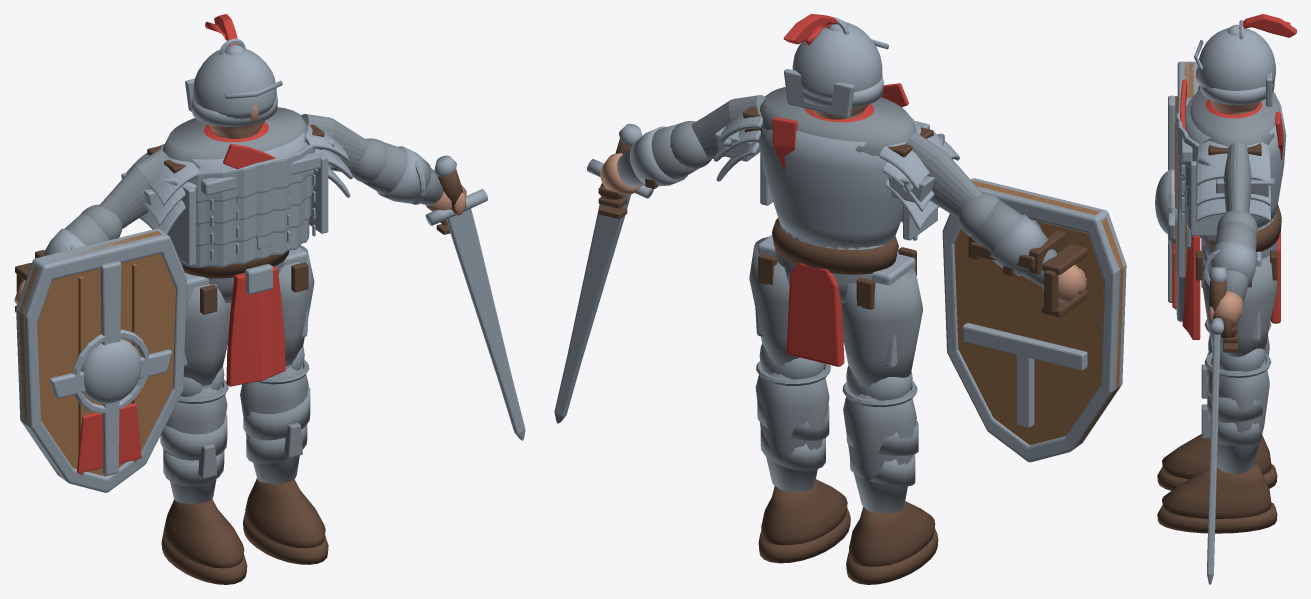
Rendered from SK_Infantry_A_v004_P03R1_Review.fbx.
The picture shows the model from 3 angles, left to right: view 1: azimuth 30°, elevation 25°; view 2: azimuth 150°, elevation 25°; view 3: azimuth 270°, elevation 25°; orthographic projection. The views are drawn at different scales.
Visible parts, largest first — view 1: Shield, Shield_Rim, GEO_Infantry_WaistCloth_Front_P03R1, Sword, Helmet, Boot_R, Boot_L, Body_Base, Thigh_L, Calf_R, Shield_Boss, ChestArmor_Lamellar_4 (+35 smaller); view 2: Shield, ChestArmor, Shield_Rim, Thigh_L, Calf_L, Calf_R, WaistCloth_Rear_P02R1, Helmet, Body_Base, Sword, Boot_R, Boot_L (+33 smaller); view 3: Boot_R, Helmet, Calf_R, Thigh_R, Body_Base, Sword, Boot_L, BootSole_R, UpperArm_R, ShoulderArmor_R_1, ChestArmor, Shield_Rim (+46 smaller).
Part boxes in pixels (x1,y1,x2,y2): Shield: (19, 231, 175, 476); Shield_Rim: (16, 228, 186, 492); GEO_Infantry_WaistCloth_Front_P03R1: (226, 266, 285, 386); Sword: (446, 208, 525, 440); Helmet: (193, 48, 276, 119); Boot_R: (245, 478, 325, 548); Boot_L: (164, 499, 244, 568); Body_Base: (163, 107, 308, 168); Thigh_L: (183, 284, 231, 385); Calf_R: (240, 364, 308, 484); Shield_Boss: (80, 339, 141, 403); ChestArmor_Lamellar_4: (188, 144, 315, 203); Shield: (954, 181, 1123, 445); ChestArmor: (758, 128, 902, 247); Shield_Rim: (942, 178, 1126, 462); Thigh_L: (841, 268, 922, 387); Calf_L: (843, 390, 916, 513); Calf_R: (755, 369, 829, 491); WaistCloth_Rear_P02R1: (786, 262, 844, 366); Helmet: (792, 22, 882, 98); Body_Base: (760, 87, 916, 249); Sword: (554, 194, 631, 423); Boot_R: (761, 479, 847, 545); Boot_L: (849, 501, 935, 566); Boot_R: (1162, 462, 1271, 518); Helmet: (1197, 28, 1275, 90); Calf_R: (1208, 353, 1269, 474); Thigh_R: (1202, 252, 1277, 357); Body_Base: (1190, 89, 1280, 228); Sword: (1207, 333, 1220, 584); Boot_L: (1162, 434, 1271, 479); BootSole_R: (1157, 502, 1277, 533); UpperArm_R: (1223, 142, 1251, 212); ShoulderArmor_R_1: (1196, 141, 1271, 185); ChestArmor: (1185, 94, 1286, 228); Shield_Rim: (1176, 61, 1199, 321).
Size of the model in its own units: 1.92 by 1.82 by 0.4799.
